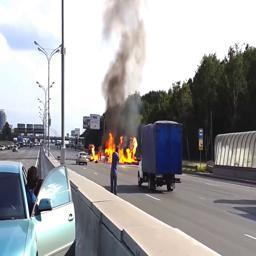fire: (91, 133, 138, 163)
